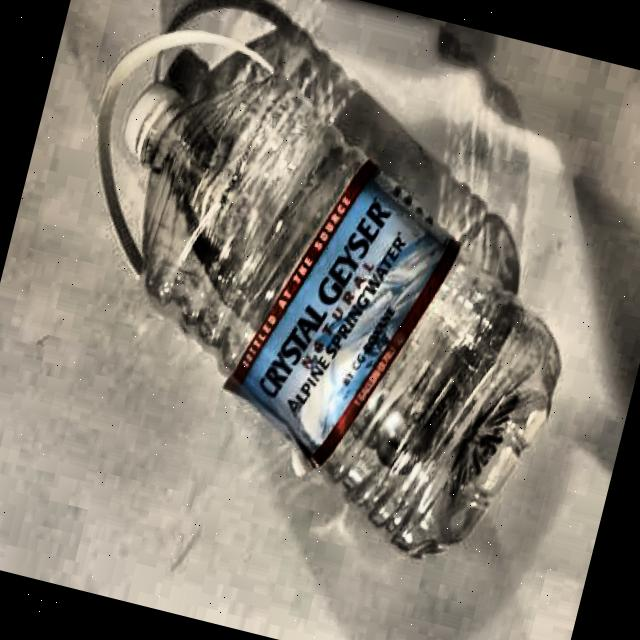plastic: (35, 46, 607, 594)
